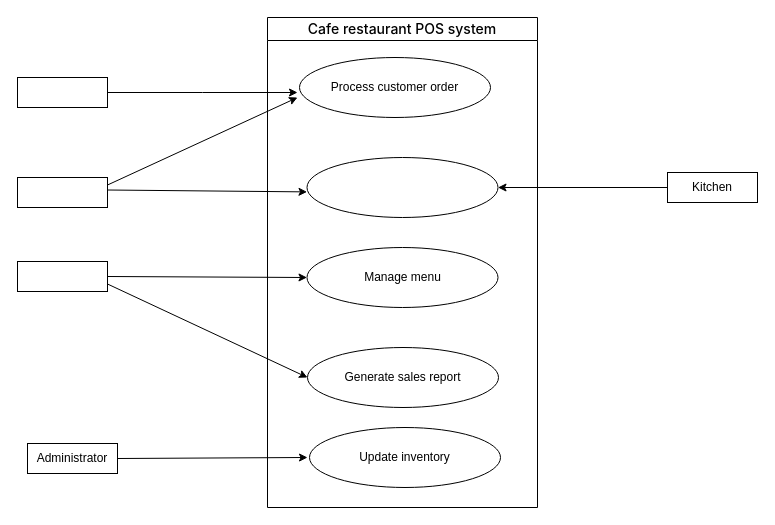
The diagram is 775 pixels wide and 525 high, and some of its shapes have lost their labels. Each missing label, with the box of its shape:
Cashier: (16, 76, 108, 108)
Manager: (16, 260, 108, 292)
Update order status: (306, 156, 498, 218)
Waiter: (16, 176, 108, 208)
